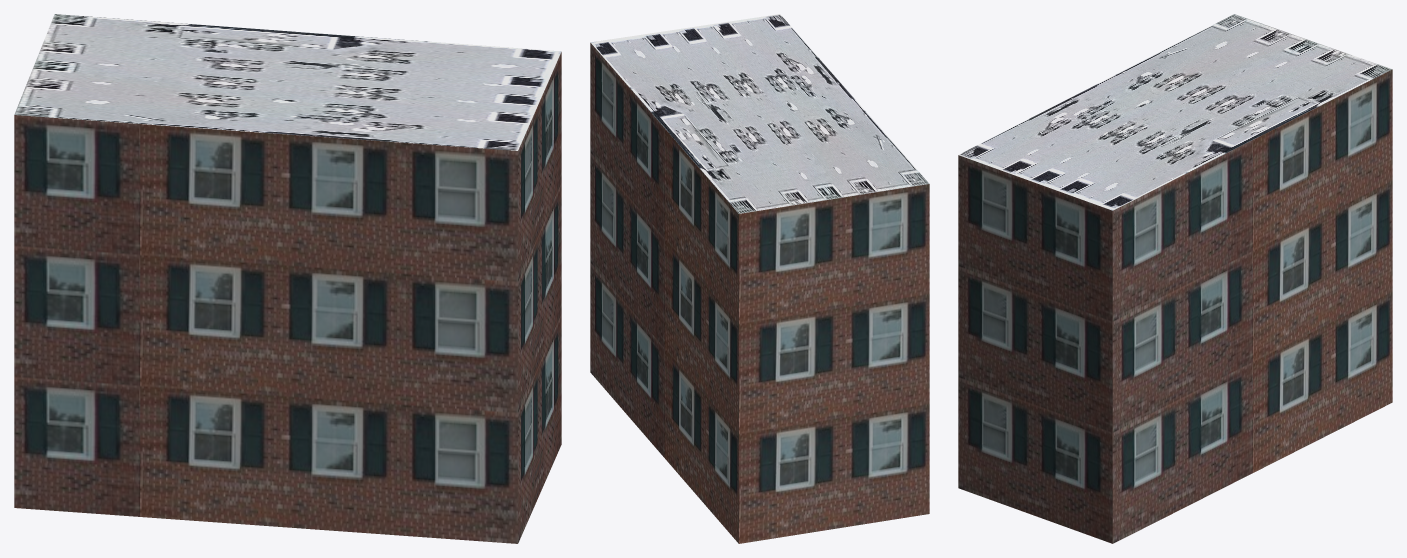
The model's file is ResTex__1162.fbx.
3 renders of one model, left to right at view 1: azimuth 30°, elevation 25°; view 2: azimuth 150°, elevation 25°; view 3: azimuth 270°, elevation 25°, orthographic. The views are drawn at different scales.
Parts seen in each view (by area): view 1: CityEngineMaterial_14_m, CityEngineMaterial_4_m; view 2: CityEngineMaterial_14_m, CityEngineMaterial_4_m; view 3: CityEngineMaterial_14_m, CityEngineMaterial_4_m.
Boxes of the visible parts, left/top/right/bottom form: CityEngineMaterial_14_m: left=14, top=52, right=561, bottom=543; CityEngineMaterial_4_m: left=14, top=14, right=561, bottom=150; CityEngineMaterial_14_m: left=590, top=43, right=929, bottom=543; CityEngineMaterial_4_m: left=590, top=14, right=929, bottom=213; CityEngineMaterial_14_m: left=958, top=69, right=1392, bottom=543; CityEngineMaterial_4_m: left=959, top=14, right=1392, bottom=210.
Size of the model in its own units: 11.4 by 9 by 10.64.
2 materials, 2 textured.
